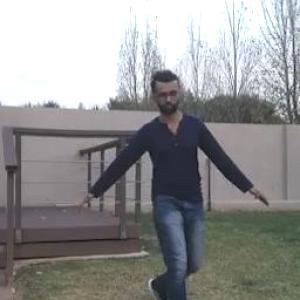land: (97, 75, 241, 299)
